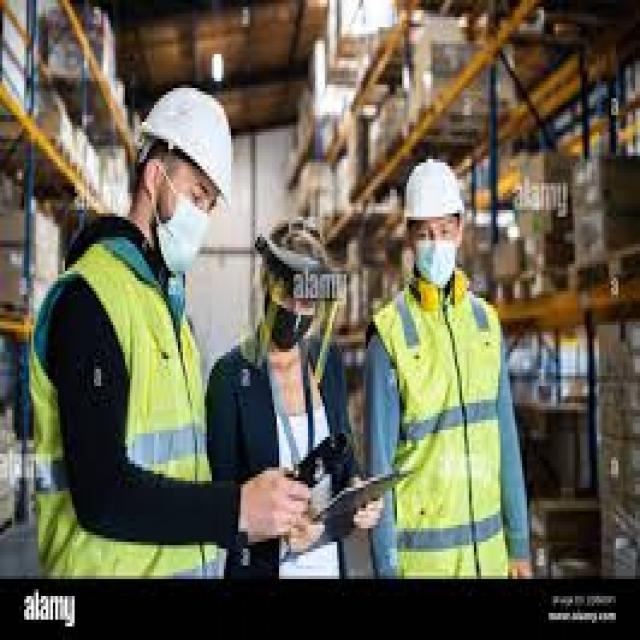Reflective-Jacket: (24, 244, 231, 582), (363, 274, 518, 579)
Safety-Helmet: (132, 78, 241, 210), (397, 149, 472, 230)
